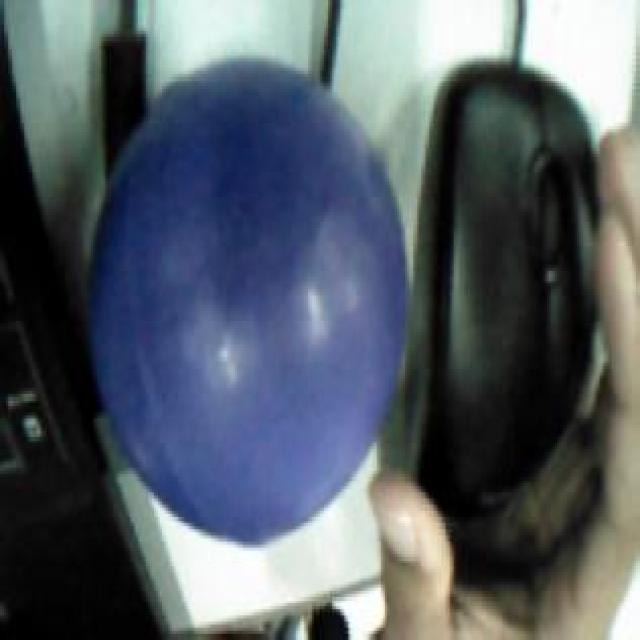BallPurple: (90, 57, 403, 549)
